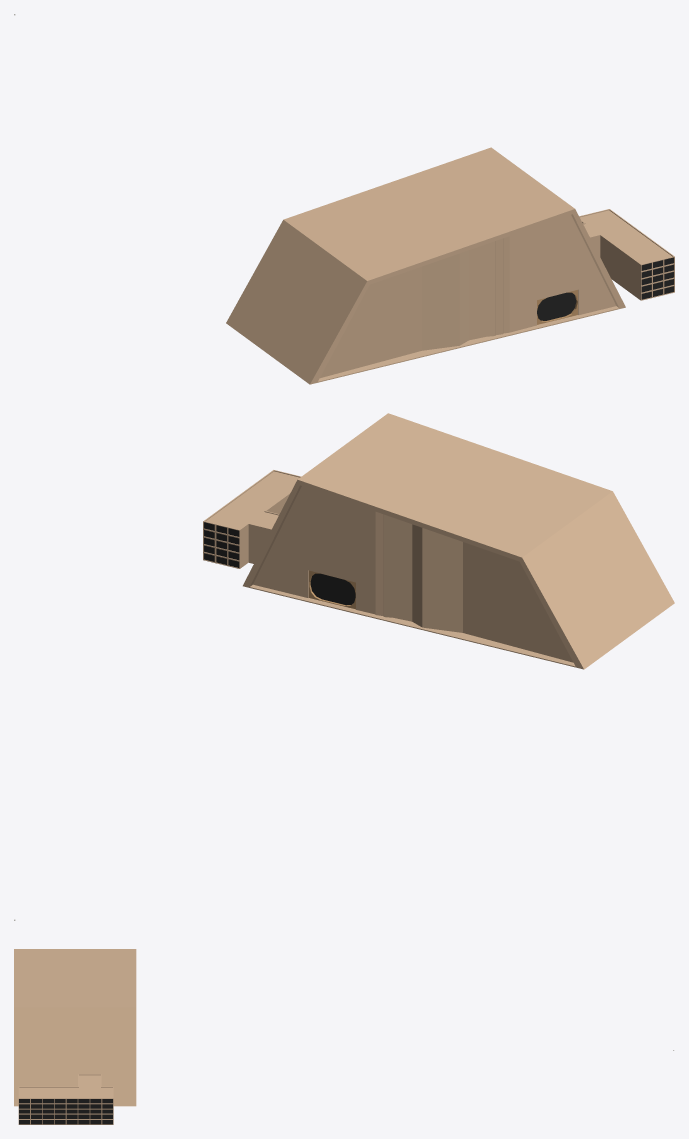
The model's file is auditorium.glb.
The picture shows the model from 3 angles, top to bottom: view 1: azimuth 30°, elevation 25°; view 2: azimuth 150°, elevation 25°; view 3: azimuth 270°, elevation 25°; orthographic projection. The views are drawn at different scales.
Parts seen in each view (by area): view 1: auditorium; view 2: auditorium; view 3: auditorium.
Boxes of the visible parts, x1,y1,x2,y2 form: auditorium: (226,147,674,384); auditorium: (203,413,674,669); auditorium: (14,949,136,1124).
Size of the model in its own units: 98.74 by 28.54 by 211.
Materials: 1 (1 with a texture image).
